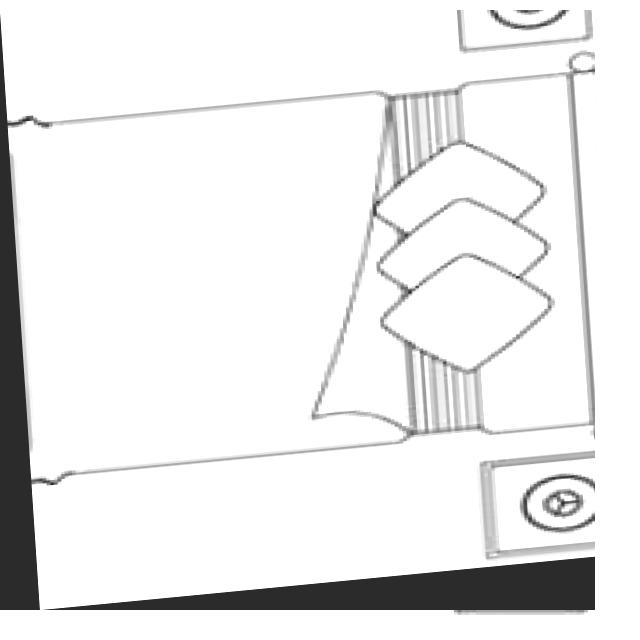bed: (0, 10, 595, 610)
